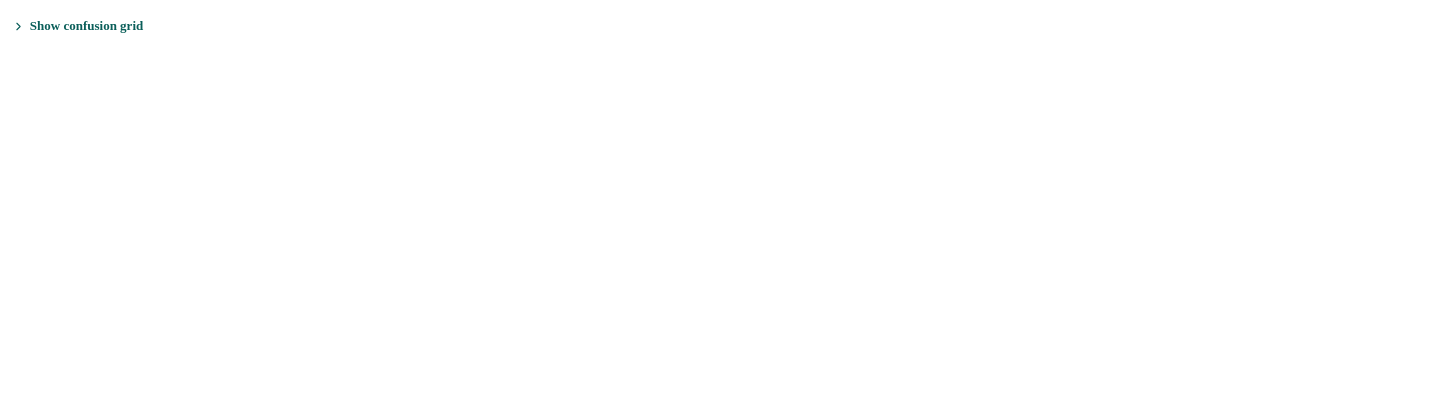
Scenario: is collapsed by default and opens on request
Click the button "Show confusion grid".
click(78, 26)  # box [8,16,147,37]
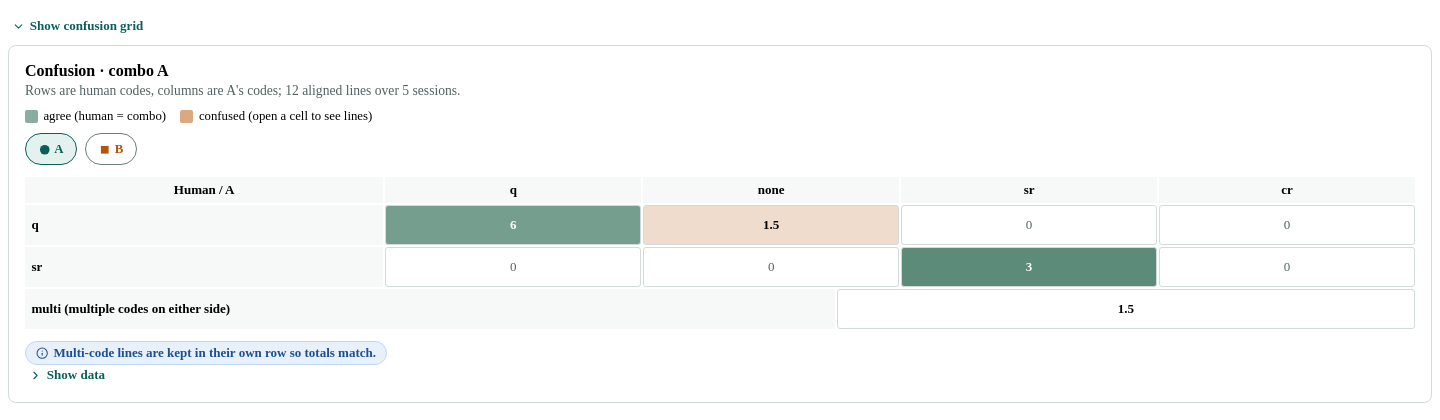
Expected: the table named "Confusion grid" is shown, [25,177,1415,329]
